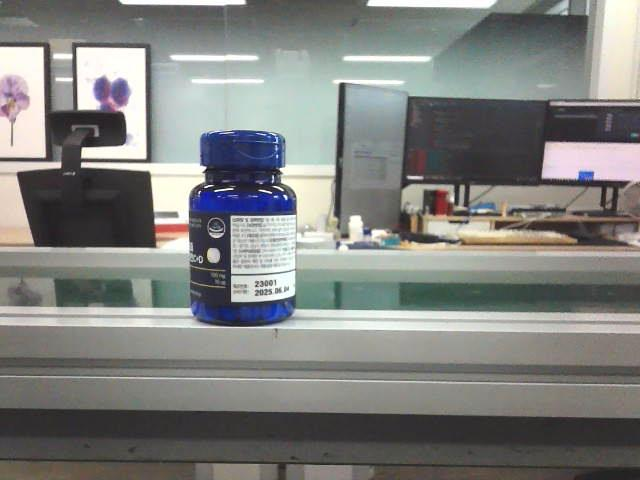labeled: (186, 127, 300, 329)
